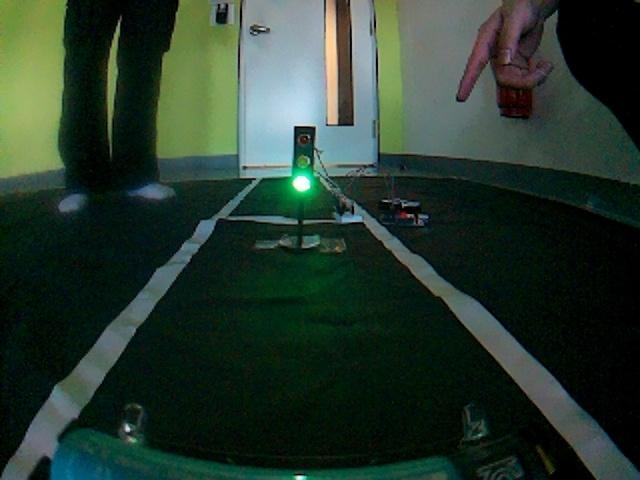go: (19, 274, 611, 480)
green_light: (208, 111, 372, 259)
